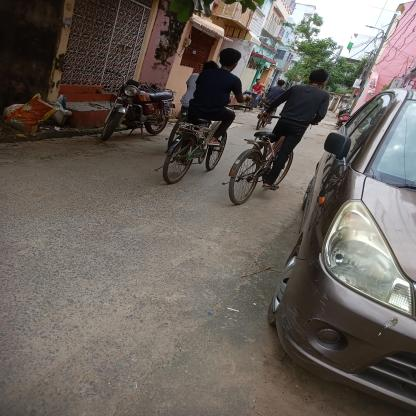bike: (211, 106, 341, 214), (153, 93, 239, 188)
